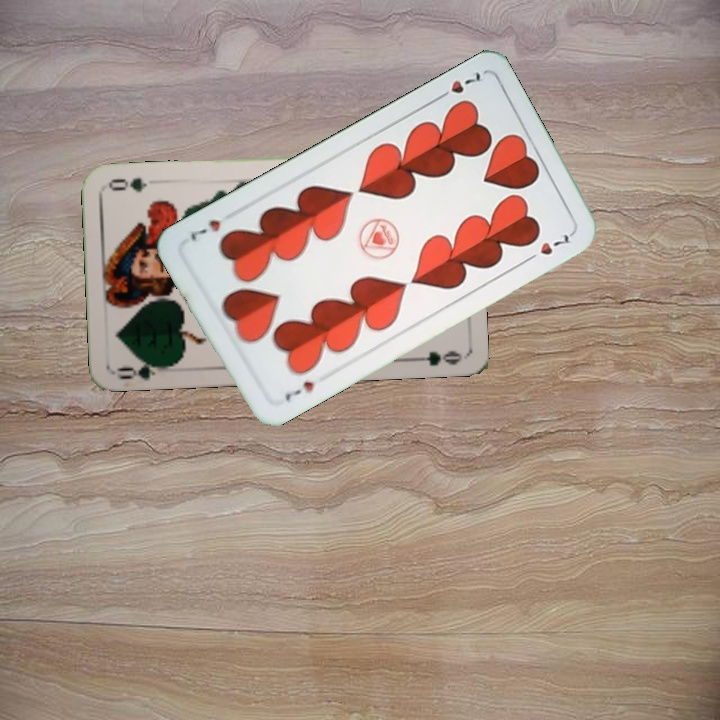GO: (114, 355, 173, 382)
H7: (431, 68, 486, 103), (280, 376, 317, 404)
